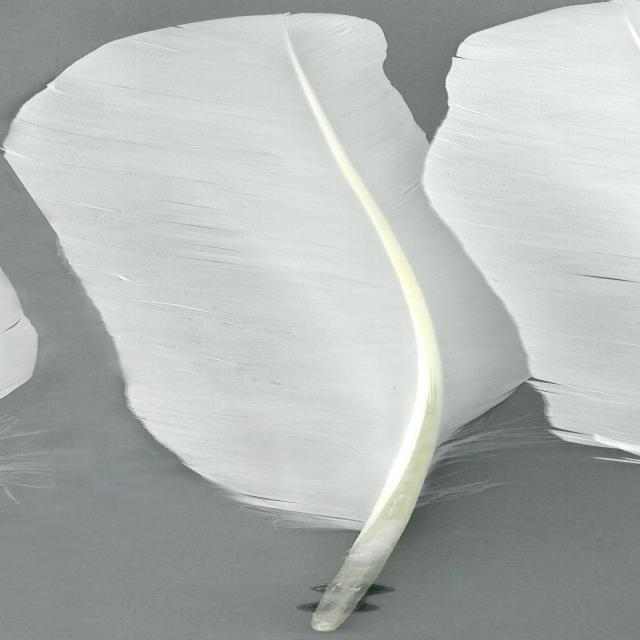feather: (0, 12, 528, 632), (387, 0, 640, 466)
